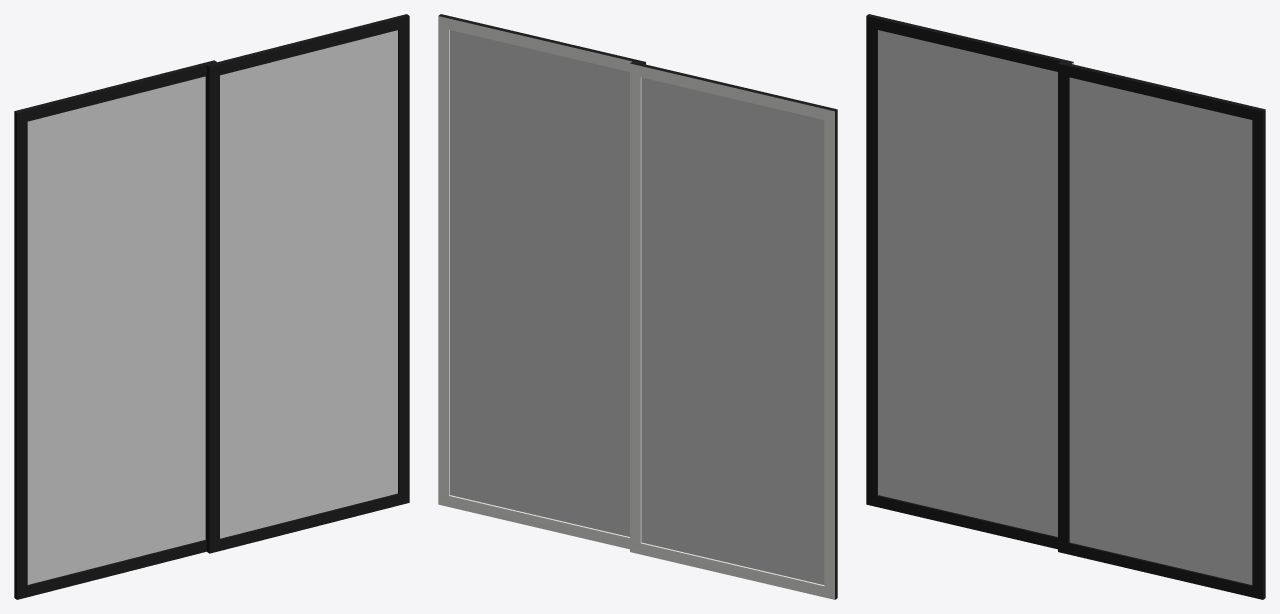
The model's file is SM_Window_10.fbx.
The picture shows the model from 3 angles, left to right: view 1: azimuth 30°, elevation 25°; view 2: azimuth 150°, elevation 25°; view 3: azimuth 330°, elevation 25°; orthographic projection.
Parts seen in each view (by area): view 1: SM_Window_10_1, SM_Window_10_2; view 2: SM_Window_10_2, SM_Window_10_1; view 3: SM_Window_10_1, SM_Window_10_2.
Part boxes in pixels (bbox=[...]): SM_Window_10_1: bbox=[206, 14, 409, 553]; SM_Window_10_2: bbox=[14, 60, 216, 599]; SM_Window_10_2: bbox=[630, 61, 837, 599]; SM_Window_10_1: bbox=[438, 14, 645, 549]; SM_Window_10_1: bbox=[1058, 61, 1265, 599]; SM_Window_10_2: bbox=[866, 14, 1073, 549].
Bounding box in the file's own units: 1.66 × 1.96 × 0.0408.
Materials: 3 (2 with a texture image).
